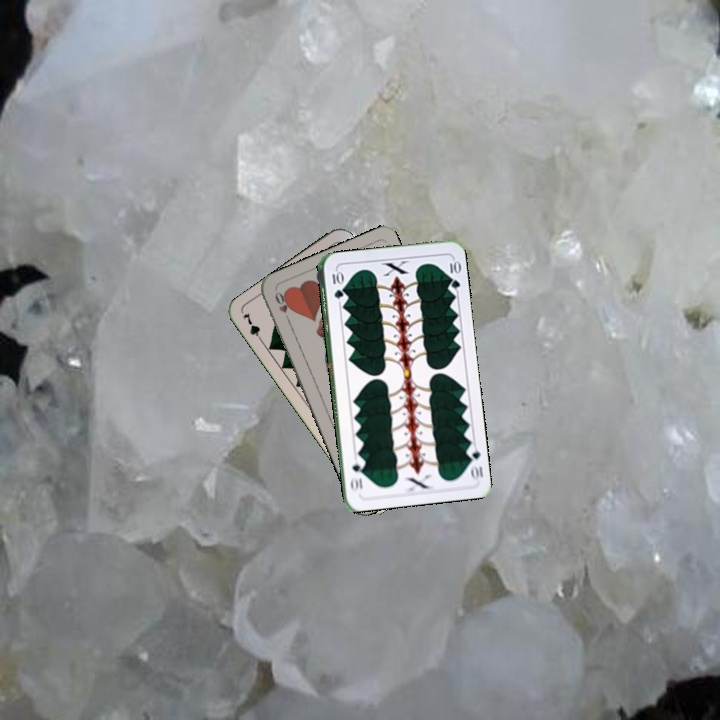G10: (463, 441, 486, 482), (328, 267, 344, 301)
G7: (238, 309, 266, 346)
HO: (271, 287, 293, 326)
